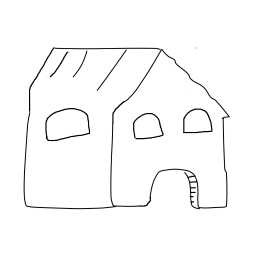door: (143, 165, 204, 213)
open_window: (40, 104, 90, 147), (127, 108, 169, 143), (179, 104, 216, 137)
single_line_roof: (15, 40, 241, 106)
wall: (17, 99, 234, 214)
